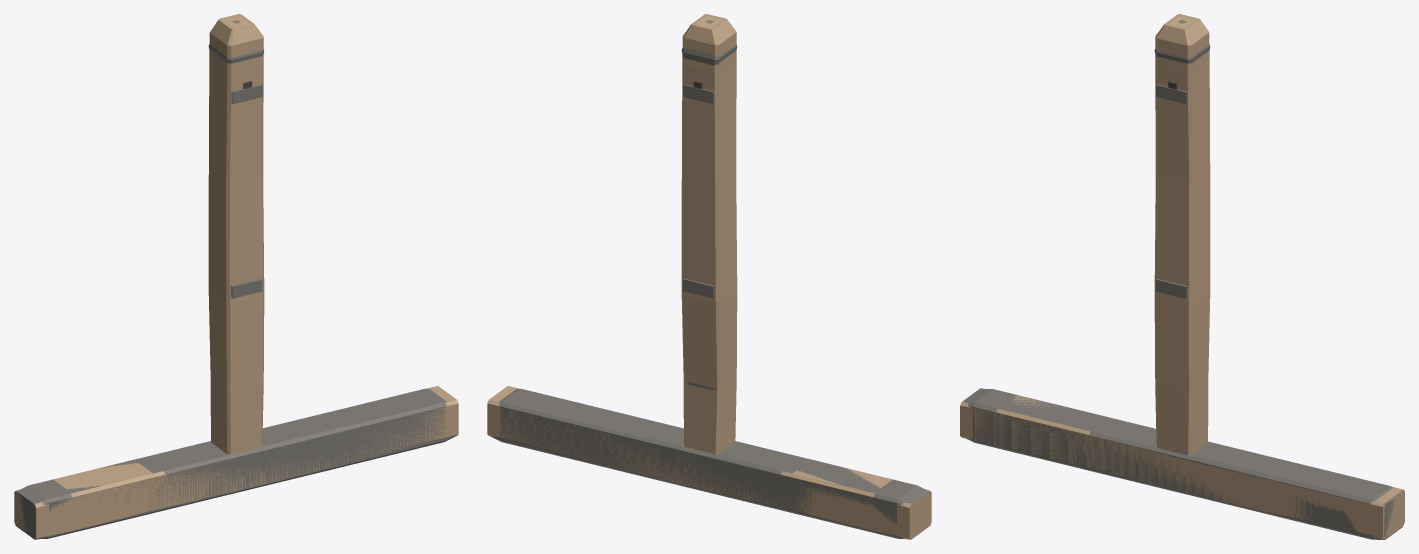
Rendered from frontier-fences.glb.
3 views of the same model, side by side, from view 1: azimuth 30°, elevation 25°; view 2: azimuth 150°, elevation 25°; view 3: azimuth 330°, elevation 25° (orthographic).
Visible parts, largest first — view 1: Frontier fences split oak, Frontier fences cold-forged iron.001, Frontier fences split oak.001, Frontier fences cold-forged iron; view 2: Frontier fences split oak, Frontier fences cold-forged iron.001, Frontier fences split oak.001, Frontier fences cold-forged iron; view 3: Frontier fences split oak, Frontier fences cold-forged iron.001, Frontier fences split oak.001, Frontier fences cold-forged iron.
Part boxes in pixels (x1=…): Frontier fences split oak: x1=208, y1=14, x2=264, y2=454; Frontier fences cold-forged iron.001: x1=16, y1=388, x2=454, y2=539; Frontier fences split oak.001: x1=14, y1=386, x2=458, y2=539; Frontier fences cold-forged iron: x1=208, y1=20, x2=264, y2=298; Frontier fences split oak: x1=681, y1=14, x2=737, y2=454; Frontier fences cold-forged iron.001: x1=491, y1=388, x2=928, y2=539; Frontier fences split oak.001: x1=487, y1=386, x2=931, y2=539; Frontier fences cold-forged iron: x1=681, y1=20, x2=737, y2=390; Frontier fences split oak: x1=1154, y1=14, x2=1210, y2=455; Frontier fences cold-forged iron.001: x1=963, y1=388, x2=1402, y2=539; Frontier fences split oak.001: x1=960, y1=388, x2=1404, y2=539; Frontier fences cold-forged iron: x1=1154, y1=20, x2=1210, y2=298.
Bounding box in the file's own units: 1 × 1.05 × 0.091.
